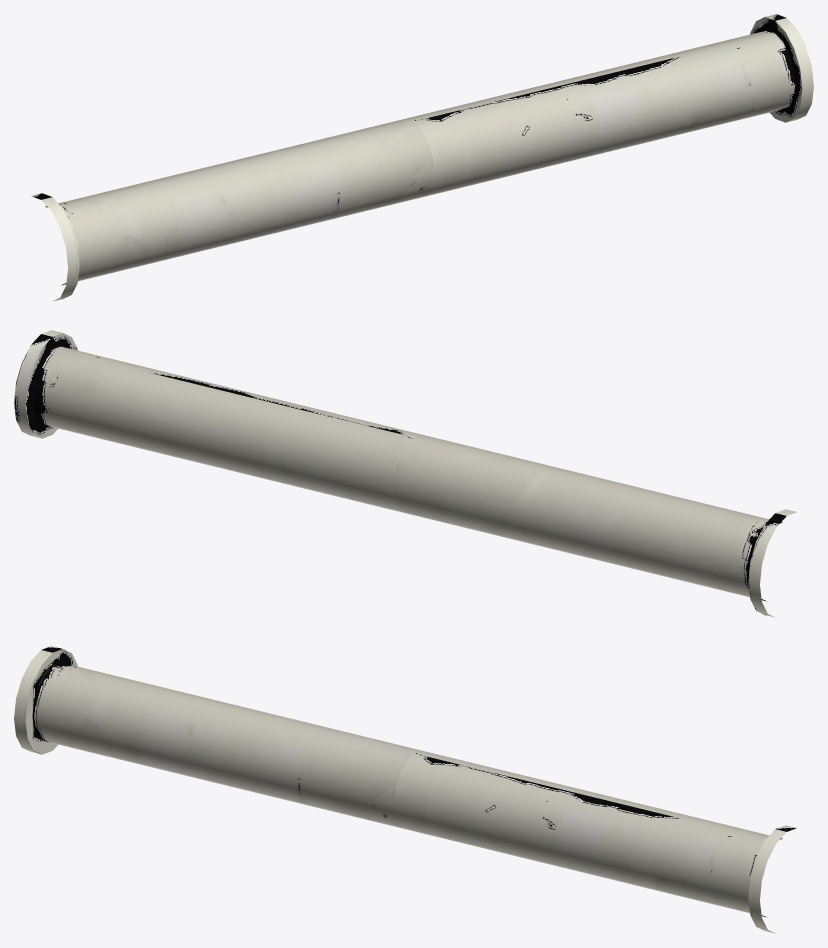
3 views of the same model, one above another, from view 1: azimuth 30°, elevation 25°; view 2: azimuth 150°, elevation 25°; view 3: azimuth 330°, elevation 25° (orthographic).
Parts seen in each view (by area): view 1: body0_model0_lod0_mesh0; view 2: body0_model0_lod0_mesh0; view 3: body0_model0_lod0_mesh0.
Boxes of the visible parts, <box> form: body0_model0_lod0_mesh0: <box>31,14,813,301</box>; body0_model0_lod0_mesh0: <box>14,330,796,617</box>; body0_model0_lod0_mesh0: <box>14,646,796,933</box>.
Bounding box in the file's own units: 256 × 32.16 × 32.16.
1 material, 1 textured.
